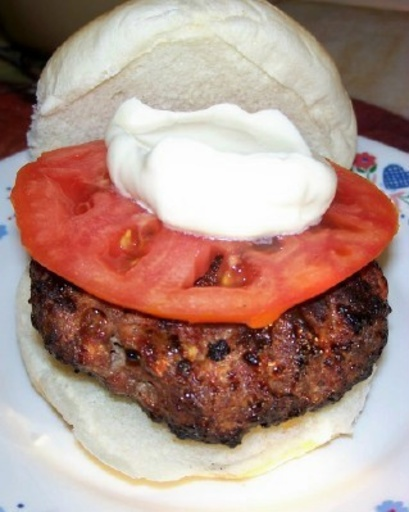background: (6, 0, 256, 386)
